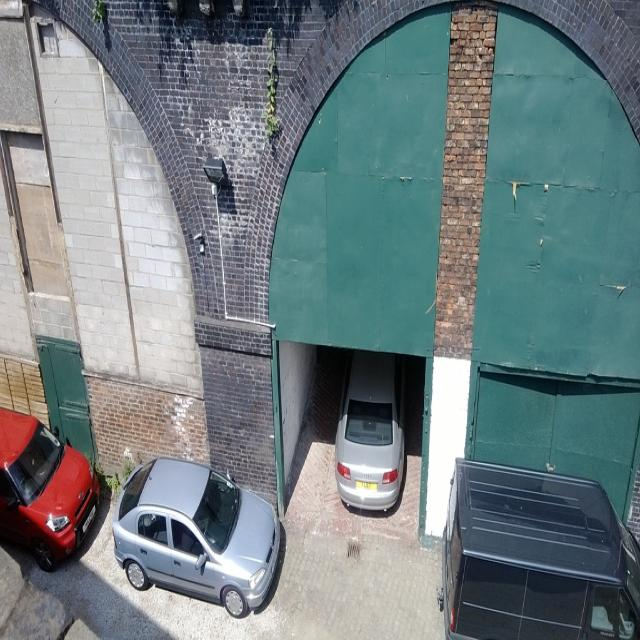car: (111, 456, 281, 617)
